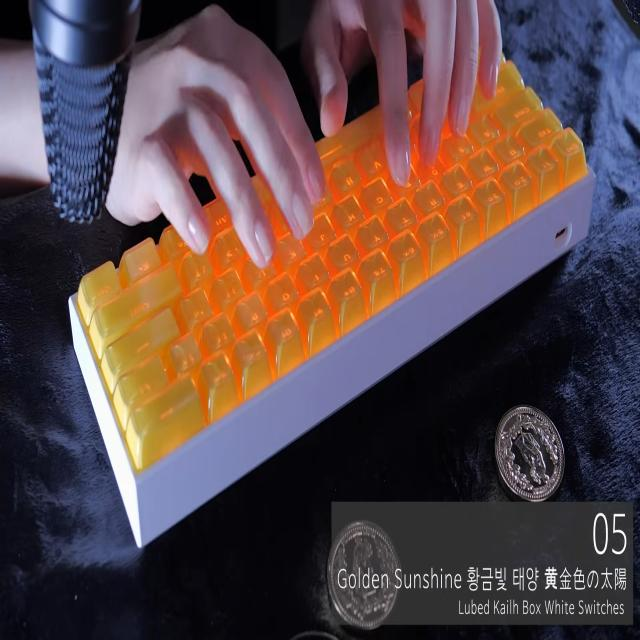keyboard-with-hands: (67, 37, 600, 480)
